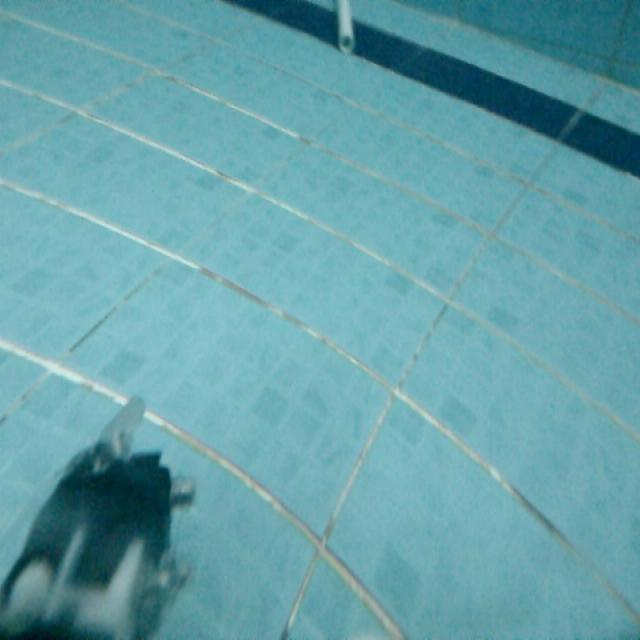Cube: (330, 0, 362, 61)
